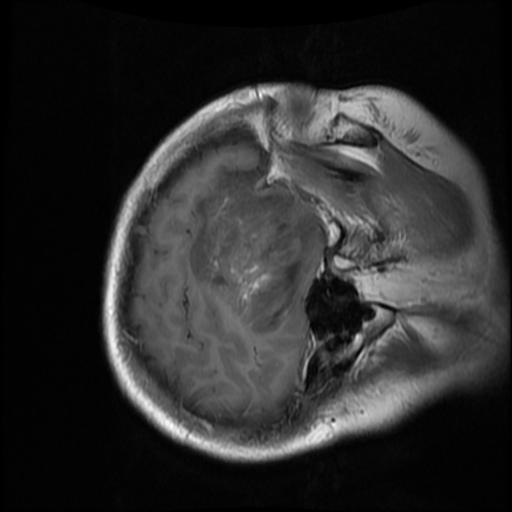glioma: (190, 170, 306, 334)
